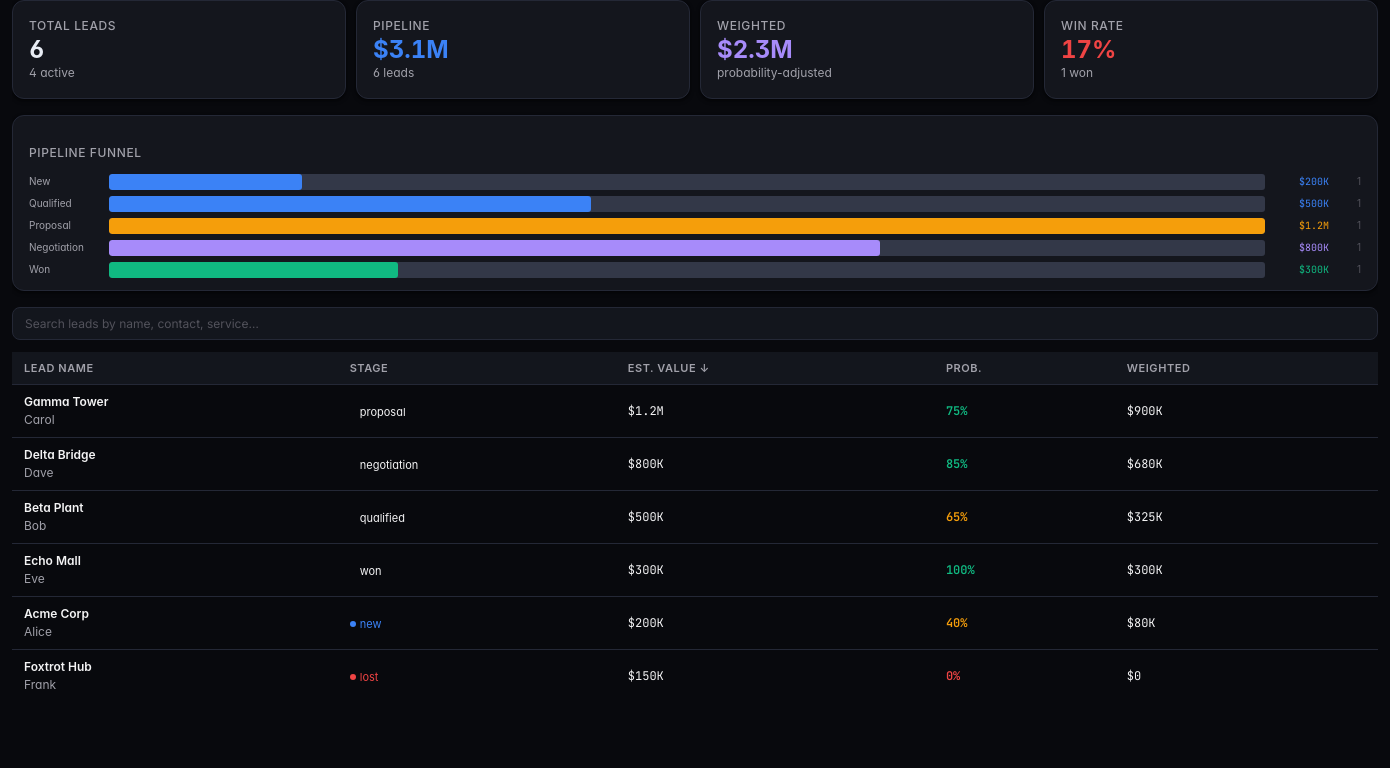
Test case: CRMLeads — search › filters leads by name
In the search field: (695, 324) [12,307,1378,340], type "Acme"
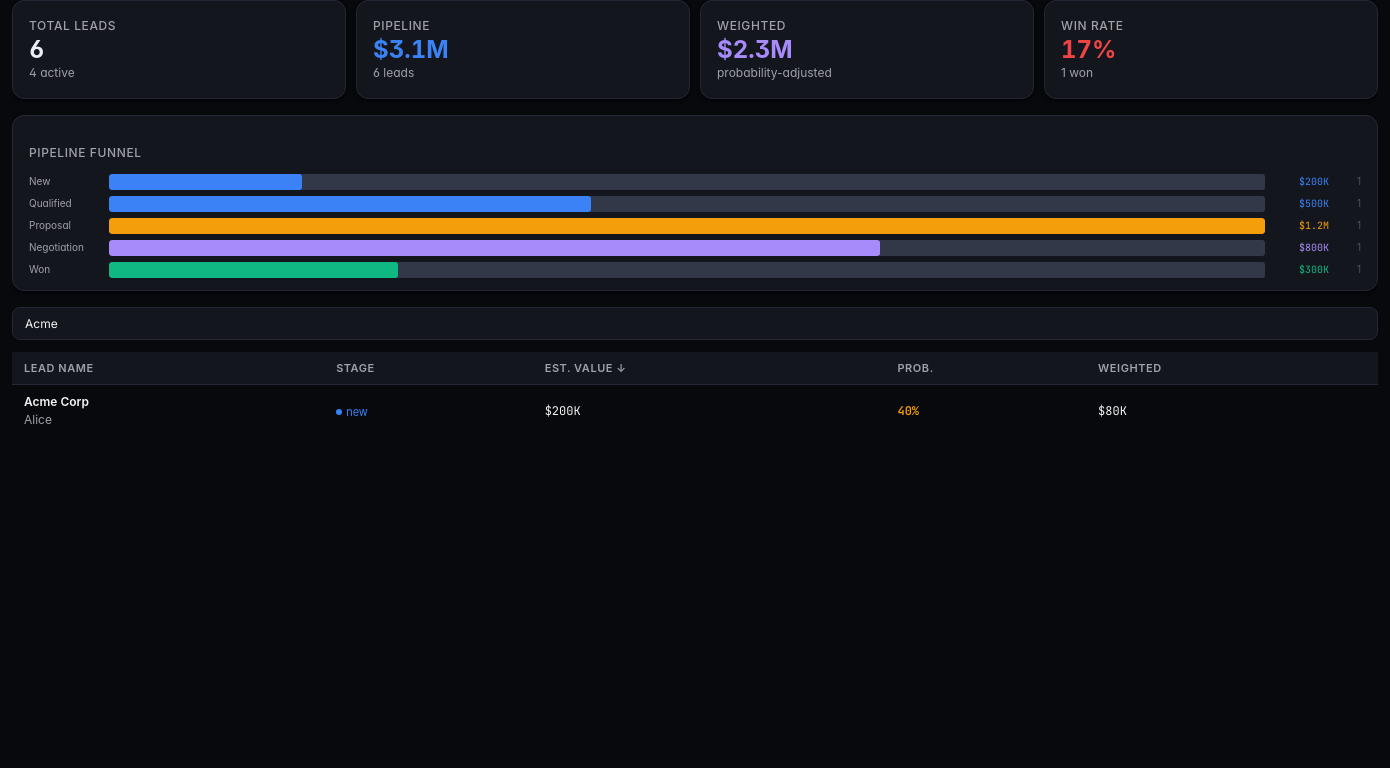
Expected: the text "Acme Corp" is shown, [24,394,89,410]
Result: the text "Beta Plant" is gone
